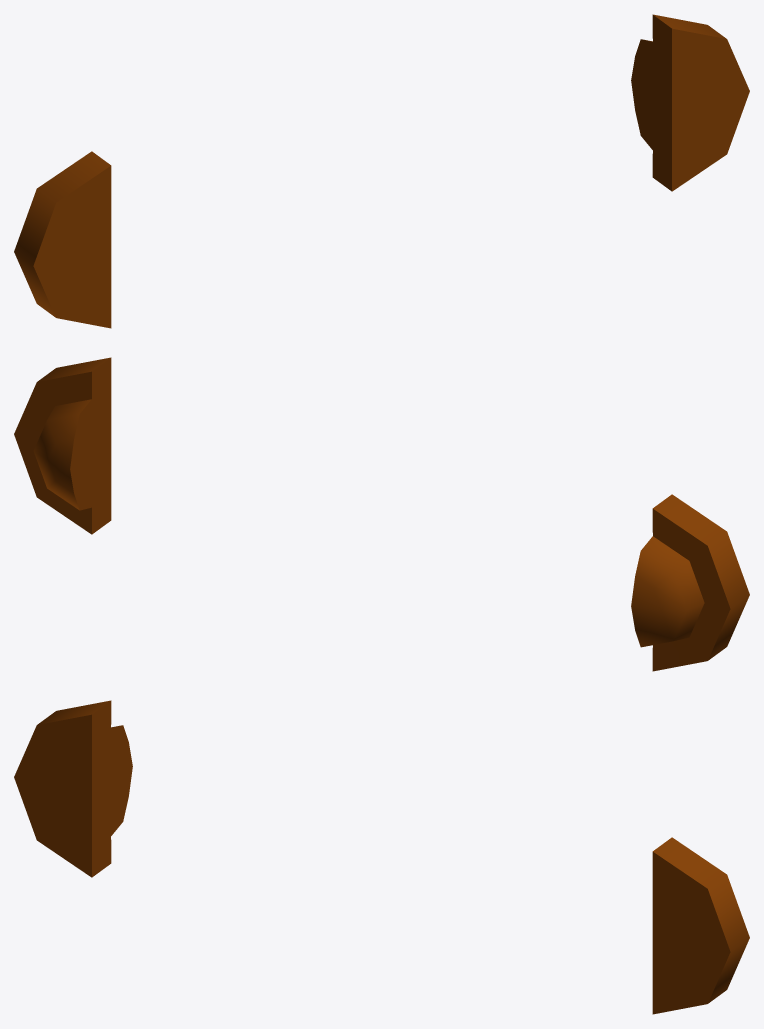
File: Ears_D_Black.fbx
3 views of the same model, one above another, from view 1: azimuth 30°, elevation 25°; view 2: azimuth 150°, elevation 25°; view 3: azimuth 330°, elevation 25° (orthographic).
Visible parts, largest first — view 1: Ears_D_Black; view 2: Ears_D_Black; view 3: Ears_D_Black.
Part boxes in pixels (x1=…): Ears_D_Black: x1=14, y1=14, x2=749, y2=328; Ears_D_Black: x1=14, y1=357, x2=749, y2=671; Ears_D_Black: x1=14, y1=700, x2=749, y2=1014.
Bounding box in the file's own units: 126 × 27.31 × 12.48.
